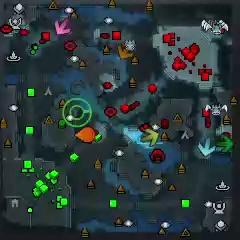p5: (76, 127, 96, 143)
x1: (54, 20, 71, 35)
x2: (142, 128, 157, 145)
x3: (198, 138, 215, 156)
x4: (216, 136, 233, 152)
x5: (118, 45, 135, 59)
